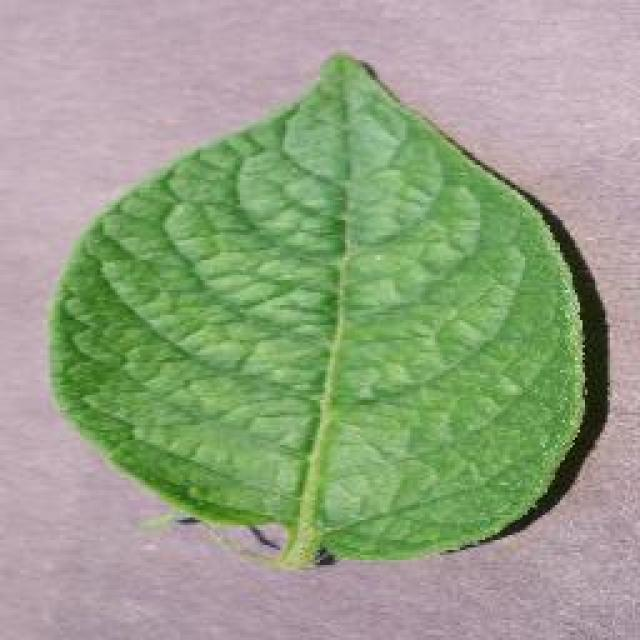Pot_healthy: (106, 135, 559, 511)
